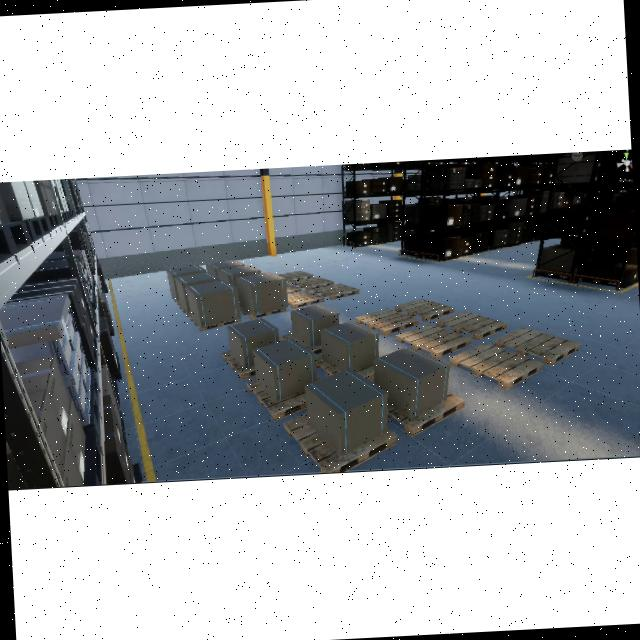wooden_pallet: (283, 413, 399, 473), (449, 343, 542, 389), (387, 391, 466, 436), (494, 327, 580, 366), (396, 324, 472, 359), (247, 380, 307, 421), (436, 311, 507, 340), (355, 308, 419, 335), (395, 298, 455, 322), (222, 350, 256, 380), (314, 283, 360, 300), (190, 316, 242, 331), (287, 291, 324, 308), (240, 307, 286, 320), (293, 277, 334, 290), (277, 271, 314, 283)
